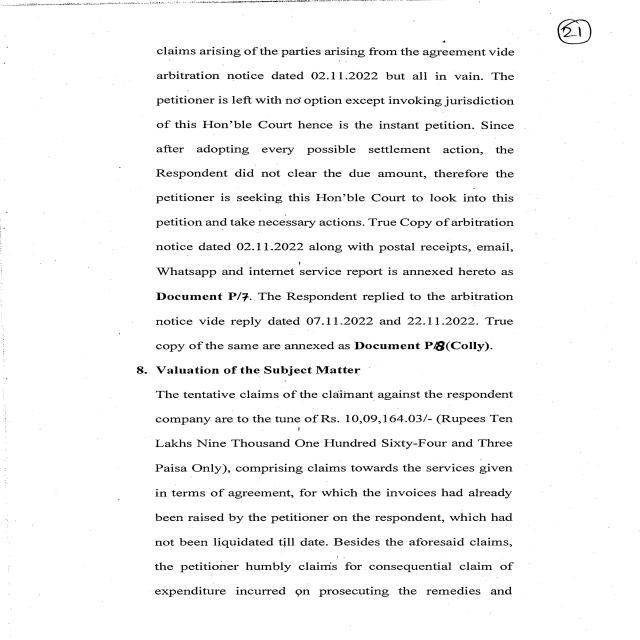page-number: (518, 0, 640, 70)
